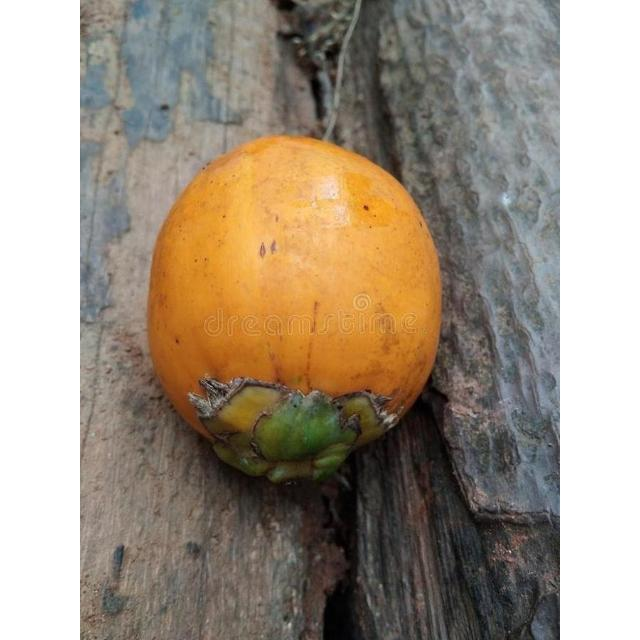good: (146, 135, 443, 486)
